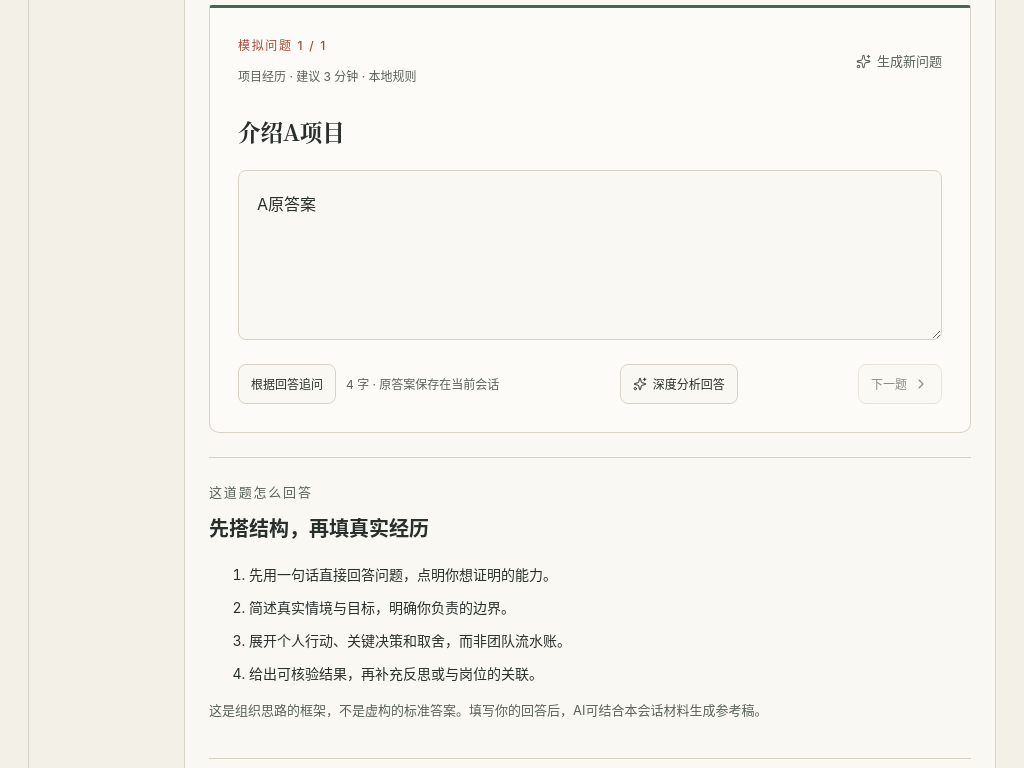
Test case: InterviewStudio › 空对象反馈显示格式错误且不保存无效结果
(page scrolled)
Click the button "深度分析回答" at (679, 384), box x1=620 y1=364 x2=738 y2=404
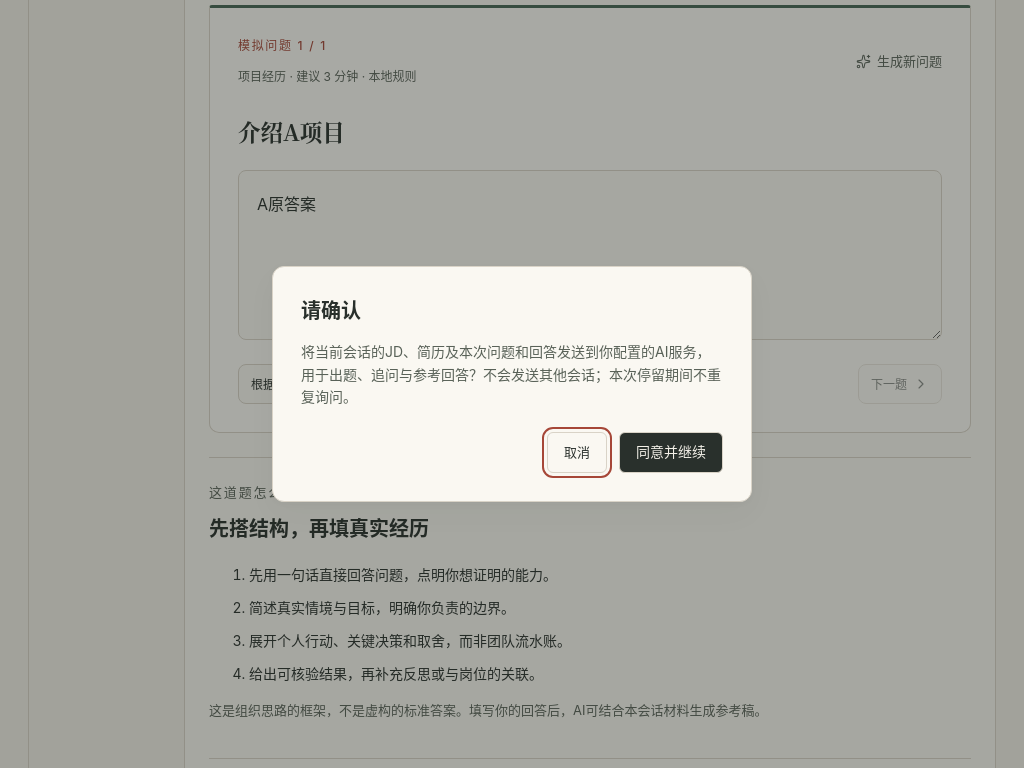
Click the button "同意并继续" at (671, 453), box x1=619 y1=432 x2=723 y2=473
(page scrolled)
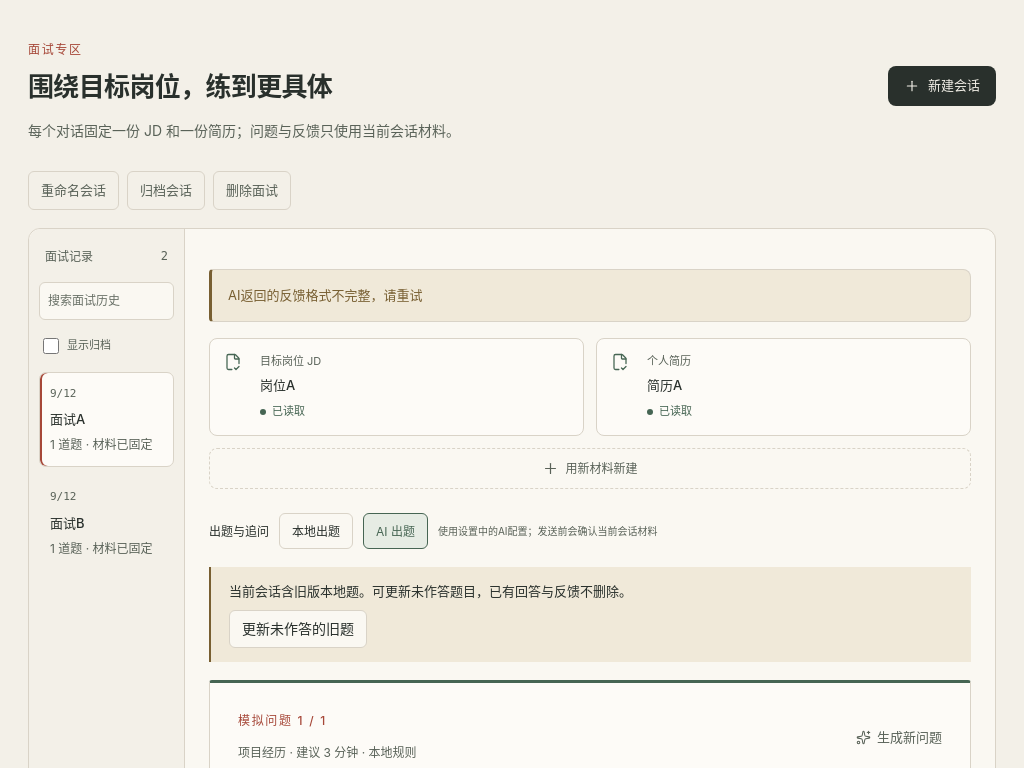
Check: the message reads "AI返回的反馈格式不完整，请重试", box x1=228 y1=287 x2=422 y2=303
